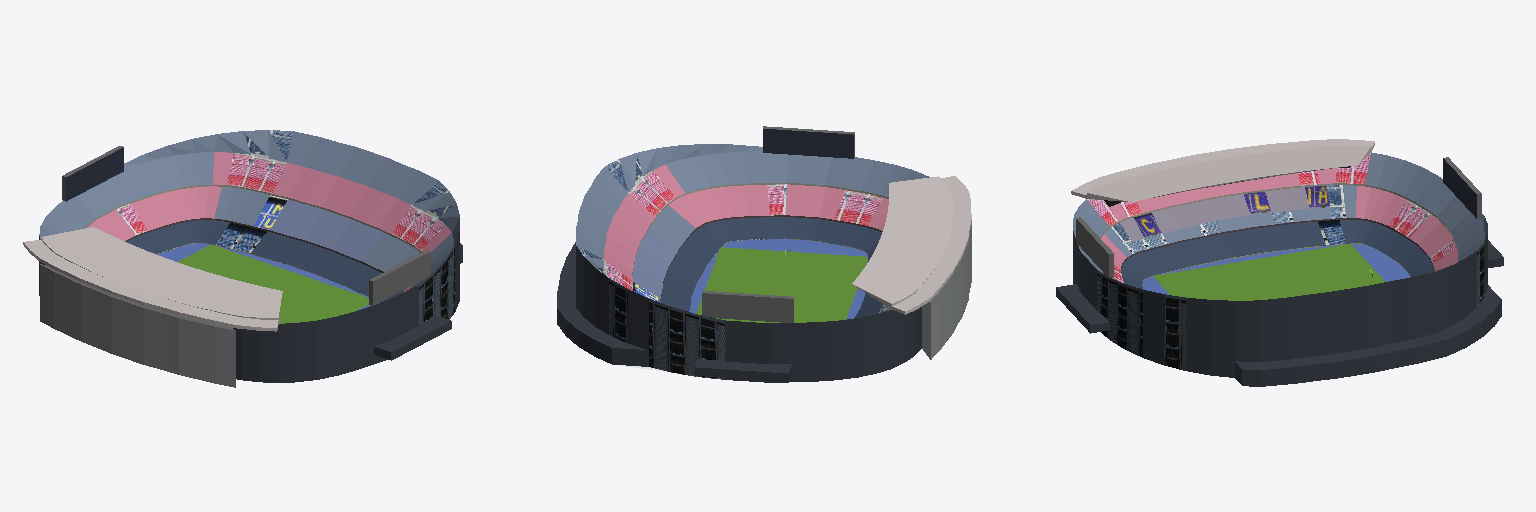
3 views of the same model, side by side, from view 1: azimuth 30°, elevation 25°; view 2: azimuth 150°, elevation 25°; view 3: azimuth 270°, elevation 25° (orthographic).
Parts seen in each view (by area): view 1: Mesh2 Group1 skeA1 Model, Mesh4 Group1 skeA1 Model, Mesh5 Group1 skeA1 Model; view 2: Mesh2 Group1 skeA1 Model, Mesh4 Group1 skeA1 Model, Mesh5 Group1 skeA1 Model; view 3: Mesh2 Group1 skeA1 Model, Mesh5 Group1 skeA1 Model, Mesh4 Group1 skeA1 Model.
Part boxes in pixels (x1,y1,x2,y2): Mesh2 Group1 skeA1 Model: (23, 130, 462, 387); Mesh4 Group1 skeA1 Model: (369, 250, 430, 305); Mesh5 Group1 skeA1 Model: (62, 146, 123, 201); Mesh2 Group1 skeA1 Model: (557, 144, 971, 382); Mesh4 Group1 skeA1 Model: (763, 126, 854, 158); Mesh5 Group1 skeA1 Model: (702, 291, 793, 322); Mesh2 Group1 skeA1 Model: (1056, 139, 1503, 386); Mesh5 Group1 skeA1 Model: (1443, 157, 1481, 218); Mesh4 Group1 skeA1 Model: (1076, 217, 1113, 277).
Size of the model in its own units: 237 by 54.1 by 243.
96 materials, 63 textured.